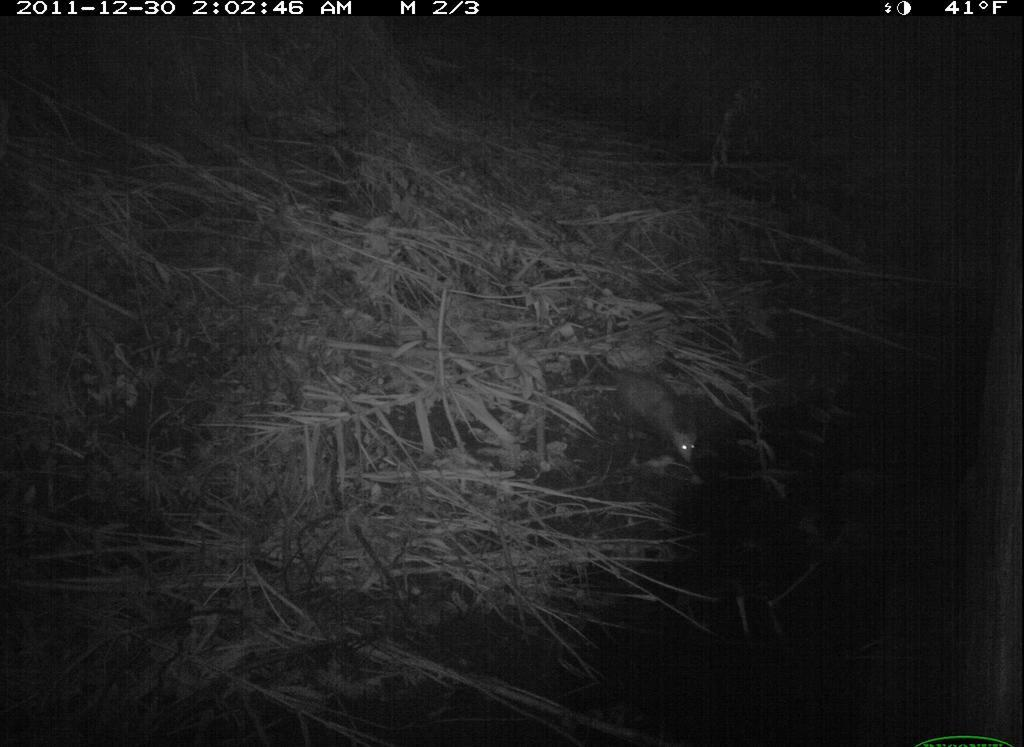opossum: (584, 347, 716, 478)
